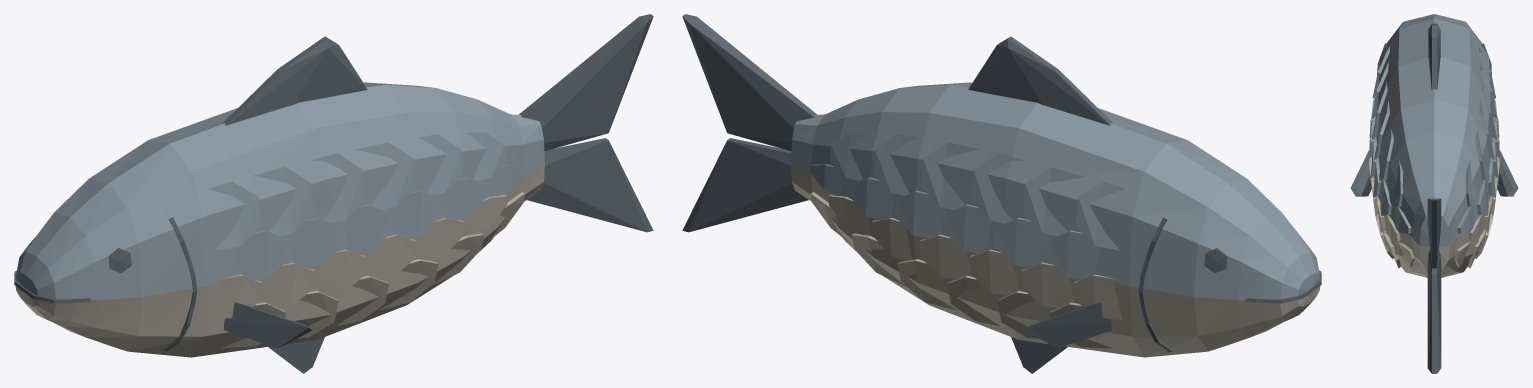
Rendered from KANJI_34_SAKANA.fbx.
The picture shows the model from 3 angles, left to right: view 1: azimuth 30°, elevation 25°; view 2: azimuth 150°, elevation 25°; view 3: azimuth 270°, elevation 25°; orthographic projection. The views are drawn at different scales.
Visible parts, largest first — view 1: SM_KANJI_34_Sakana; view 2: SM_KANJI_34_Sakana; view 3: SM_KANJI_34_Sakana.
Part boxes in pixels (x1,y1,x2,y2): SM_KANJI_34_Sakana: [14, 14, 653, 373]; SM_KANJI_34_Sakana: [682, 14, 1321, 373]; SM_KANJI_34_Sakana: [1350, 14, 1518, 373].
Bounding box in the file's own units: 0.28 × 0.14 × 0.08.
